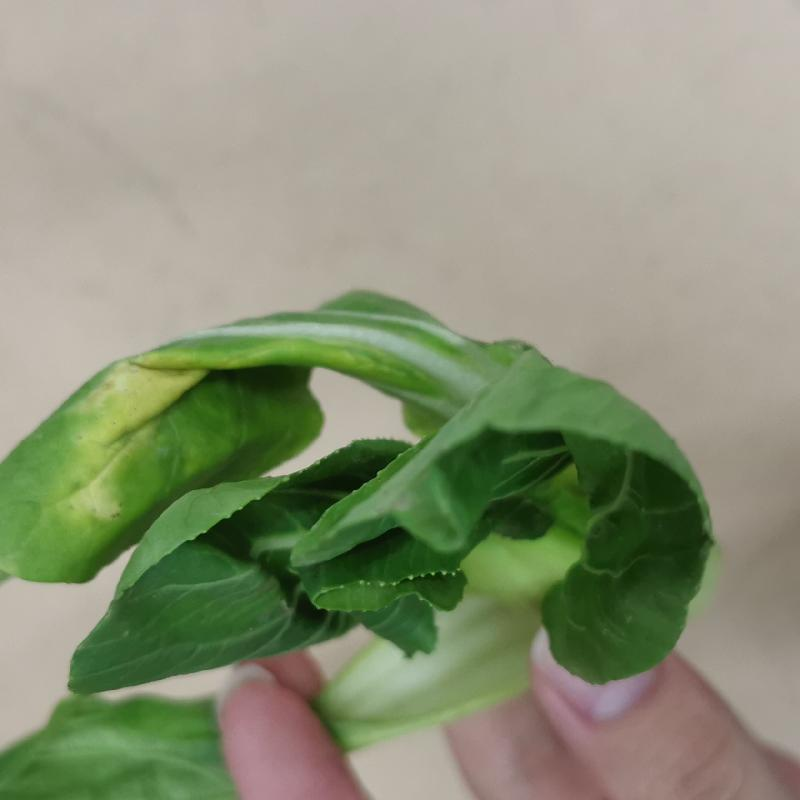green vegatable: (0, 285, 745, 652)
